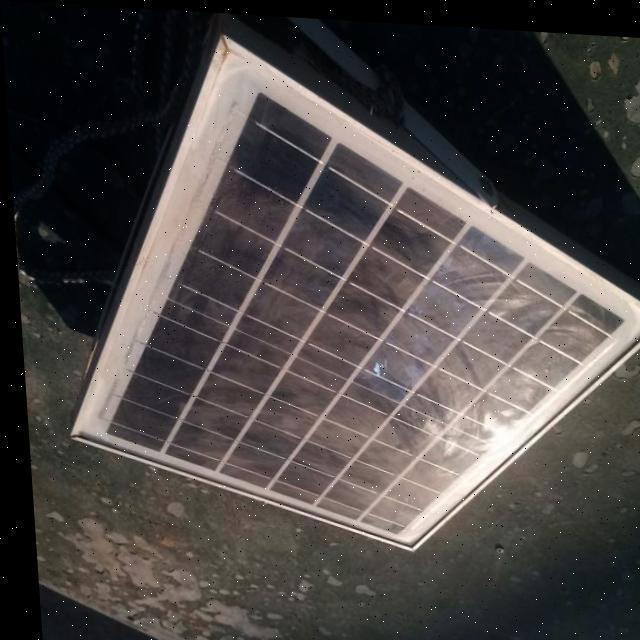Surface Contaminant: (100, 90, 620, 531)
